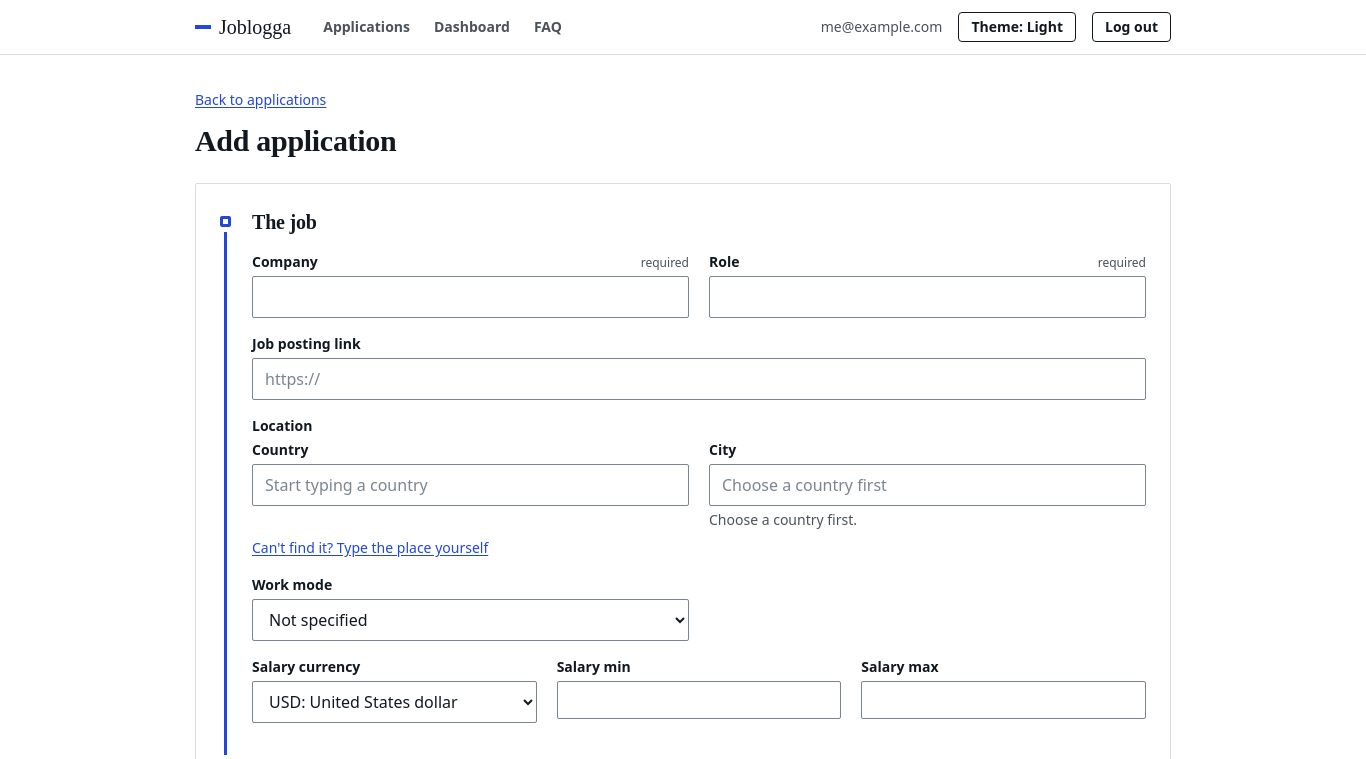
Test: add application: inline validation › flags an empty required field when you leave it
Step 1. Click the field labelled "Company" → x=470, y=297, box [252,276,689,318]
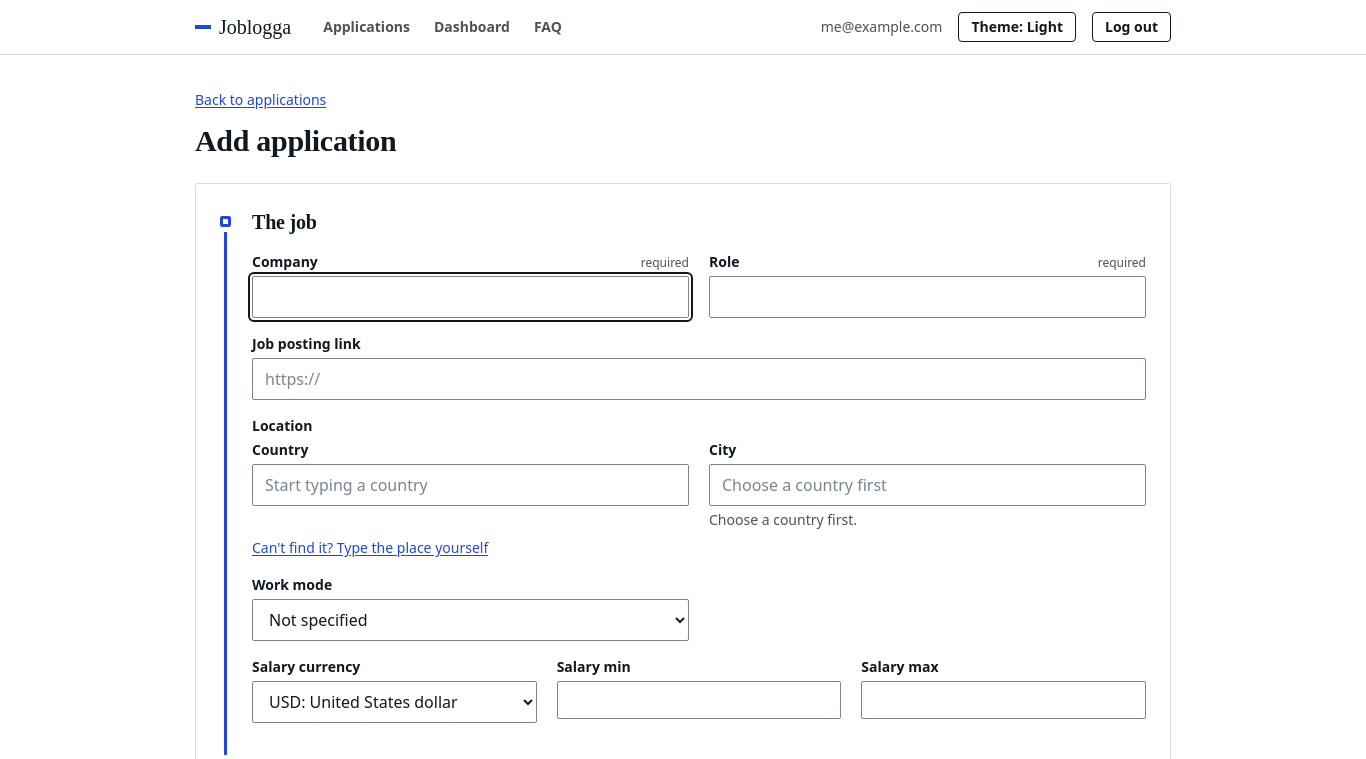
Step 2. Press Tab
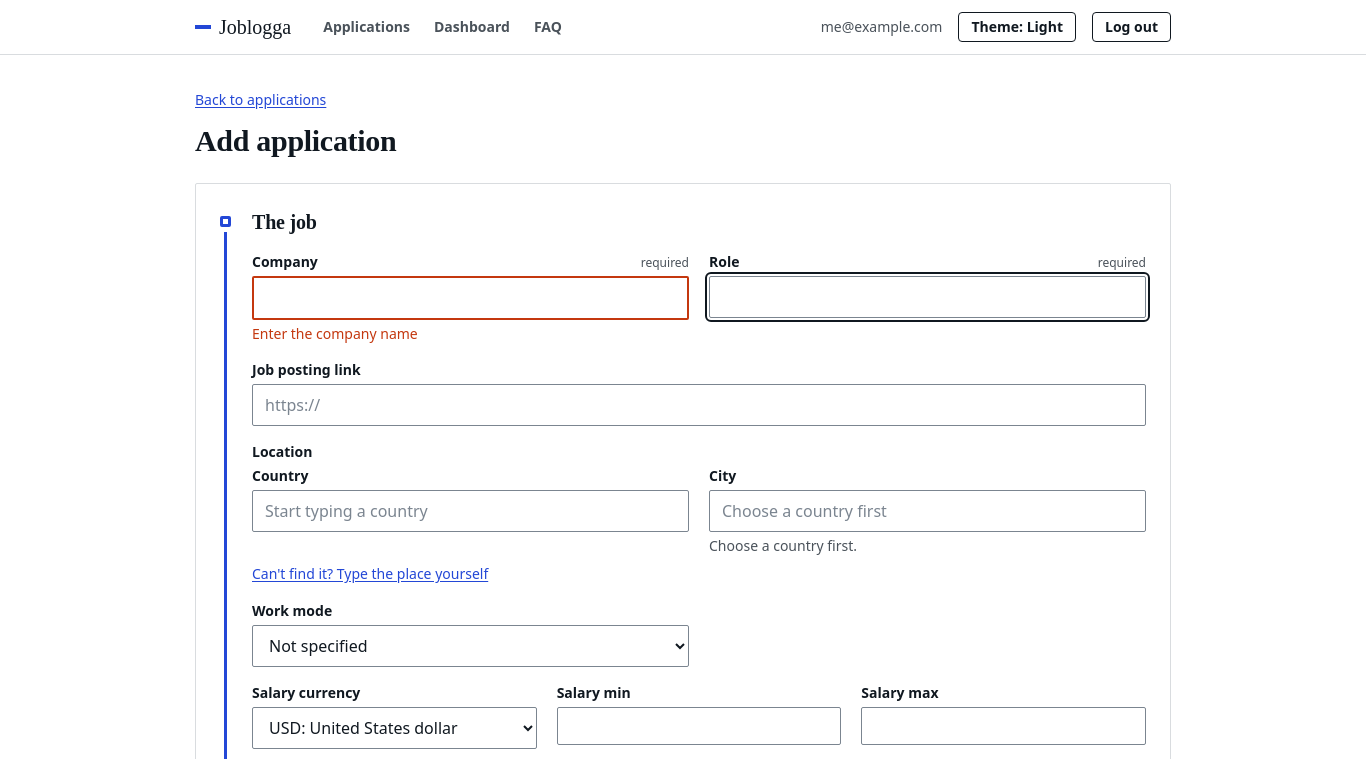
expect the text "Enter the company name" is shown: met, box [252,324,418,343]
